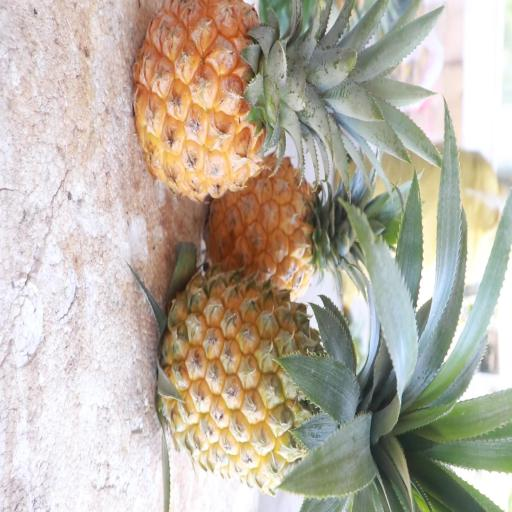Pineapple - v8 v1: (153, 260, 388, 500), (129, 1, 357, 210), (205, 159, 380, 300)
